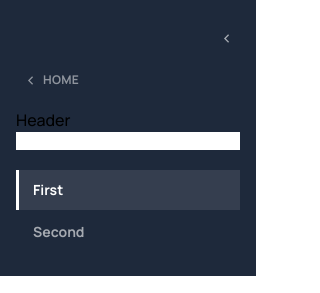
Scenario: AppSidebar › collapses and expands
The image size is (320, 293).
What coordinates should you click on to do the following:
click the button named "Collapse navigation"
I would click on:
 (226, 38)
Its box is [212, 24, 240, 52].
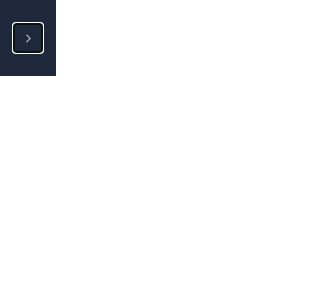
Check: the link "Second" is gone
What coordinates should you click on to do the following:
click the button named "Expand navigation"
I would click on:
 (28, 38)
Its box is [14, 24, 42, 52].
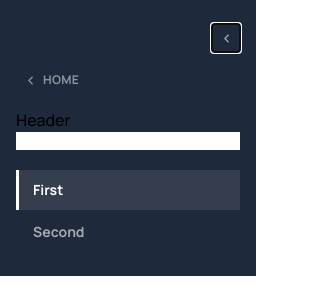
Check: the link "Second" is shown, box [33, 222, 84, 241]
